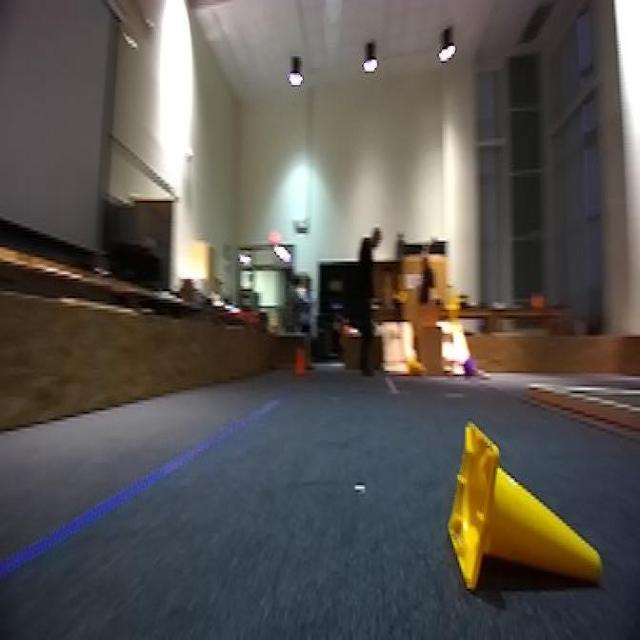frc_cone: (445, 417, 614, 591), (405, 359, 420, 380)
frc_cube: (463, 352, 477, 377)
